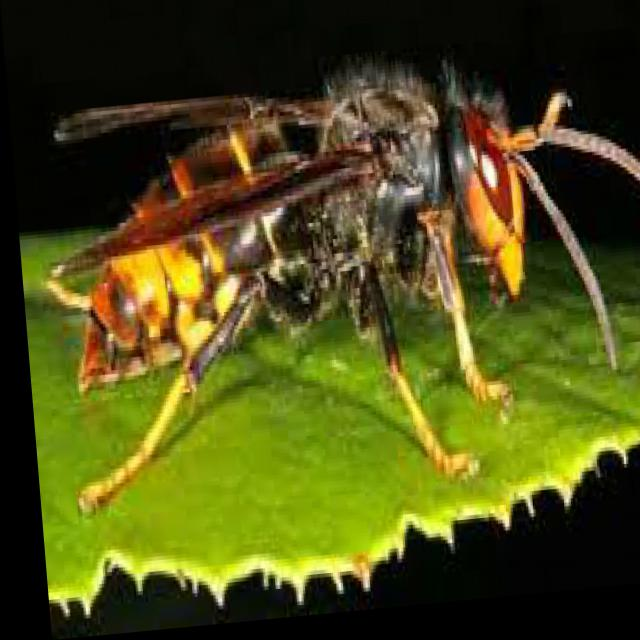Vespa Velutina: (16, 36, 639, 537)
